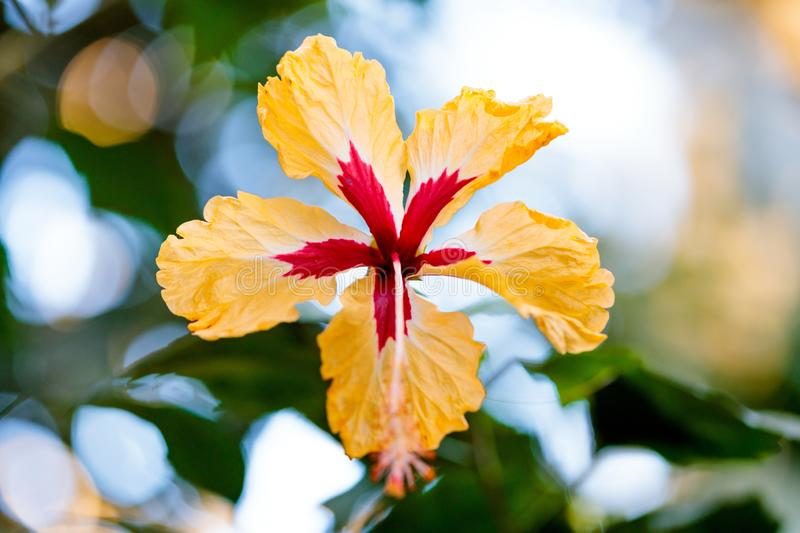Hibiscus: (156, 28, 619, 504)
